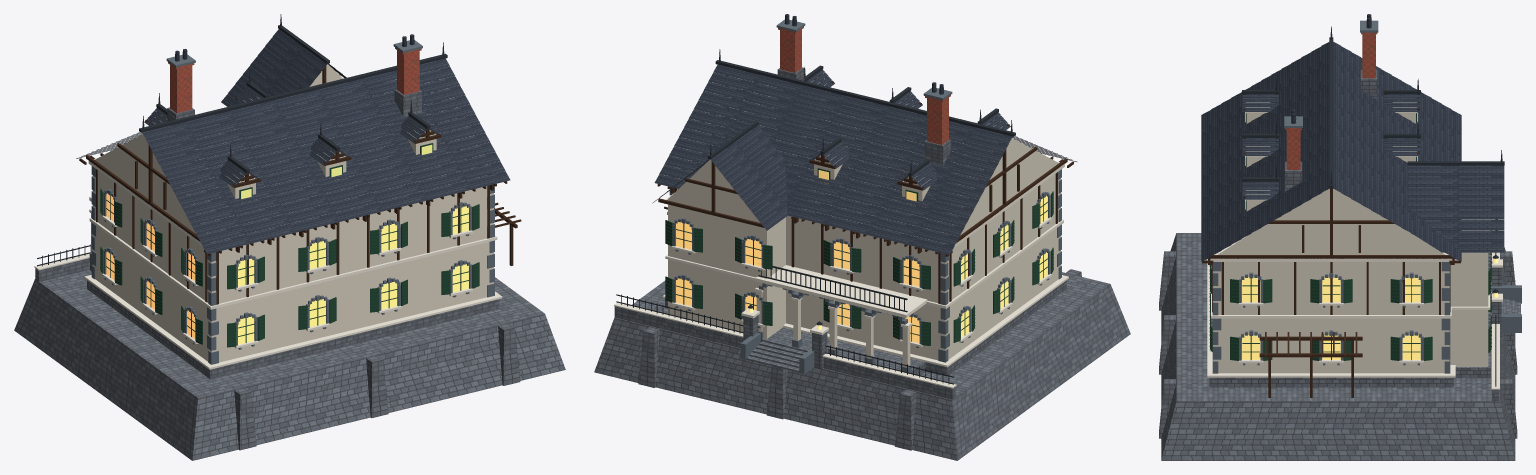
The model's file is fv_nd_06_nguyen_du_villa_09_brittany_slate.glb.
The picture shows the model from 3 angles, left to right: view 1: azimuth 30°, elevation 25°; view 2: azimuth 150°, elevation 25°; view 3: azimuth 270°, elevation 25°; orthographic projection. The views are drawn at different scales.
Parts seen in each view (by area): view 1: Foundation_Skirt_Neg3p5m, Normandy_Brittany_Layered_Roof, Villa_Stucco_Walls, Molded_Cornices_And_Sills, PineGreen_Louvered_Shutters, Stone_Quoins_And_Arches, Exposed_Timber_Trusses_And_Rafters, Warm_Night_Windows_20h00_Blend, Roof_Ridges_Caps_And_Finials, Brick_Chimney_Stacks; view 2: Foundation_Skirt_Neg3p5m, Normandy_Brittany_Layered_Roof, Villa_Stucco_Walls, Molded_Cornices_And_Sills, Stone_Quoins_And_Arches, PineGreen_Louvered_Shutters, Exposed_Timber_Trusses_And_Rafters, Warm_Night_Windows_20h00_Blend, Roof_Ridges_Caps_And_Finials, Wrought_Iron_Balustrades_And_Gate, Brick_Chimney_Stacks; view 3: Foundation_Skirt_Neg3p5m, Normandy_Brittany_Layered_Roof, Villa_Stucco_Walls, Molded_Cornices_And_Sills, Exposed_Timber_Trusses_And_Rafters, Stone_Quoins_And_Arches, PineGreen_Louvered_Shutters, Warm_Night_Windows_20h00_Blend, Roof_Ridges_Caps_And_Finials, Brick_Chimney_Stacks.
Boxes of the visible parts, left/top/right/bottom form: Foundation_Skirt_Neg3p5m: left=14, top=89, right=565, bottom=460; Normandy_Brittany_Layered_Roof: left=142, top=29, right=510, bottom=254; Villa_Stucco_Walls: left=91, top=64, right=493, bottom=362; Molded_Cornices_And_Sills: left=34, top=95, right=502, bottom=369; PineGreen_Louvered_Shutters: left=100, top=143, right=479, bottom=347; Stone_Quoins_And_Arches: left=89, top=40, right=494, bottom=364; Exposed_Timber_Trusses_And_Rafters: left=79, top=66, right=521, bottom=304; Warm_Night_Windows_20h00_Blend: left=106, top=144, right=468, bottom=344; Roof_Ridges_Caps_And_Finials: left=76, top=14, right=447, bottom=180; Brick_Chimney_Stacks: left=168, top=47, right=421, bottom=113; Foundation_Skirt_Neg3p5m: left=594, top=67, right=1130, bottom=460; Normandy_Brittany_Layered_Roof: left=654, top=14, right=1012, bottom=254; Villa_Stucco_Walls: left=667, top=95, right=1060, bottom=367; Molded_Cornices_And_Sills: left=614, top=80, right=1068, bottom=388; Stone_Quoins_And_Arches: left=669, top=19, right=1061, bottom=374; PineGreen_Louvered_Shutters: left=665, top=168, right=1053, bottom=345; Exposed_Timber_Trusses_And_Rafters: left=657, top=69, right=1073, bottom=303; Warm_Night_Windows_20h00_Blend: left=676, top=170, right=1047, bottom=343; Roof_Ridges_Caps_And_Finials: left=652, top=49, right=1076, bottom=203; Wrought_Iron_Balustrades_And_Gate: left=616, top=266, right=954, bottom=384; Brick_Chimney_Stacks: left=778, top=27, right=950, bottom=144; Foundation_Skirt_Neg3p5m: left=1159, top=70, right=1520, bottom=460; Normandy_Brittany_Layered_Roof: left=1201, top=14, right=1504, bottom=261; Villa_Stucco_Walls: left=1213, top=113, right=1488, bottom=373; Molded_Cornices_And_Sills: left=1207, top=102, right=1502, bottom=389; Exposed_Timber_Trusses_And_Rafters: left=1202, top=94, right=1497, bottom=397; Stone_Quoins_And_Arches: left=1210, top=20, right=1521, bottom=373; PineGreen_Louvered_Shutters: left=1209, top=113, right=1491, bottom=360; Warm_Night_Windows_20h00_Blend: left=1242, top=112, right=1498, bottom=359; Roof_Ridges_Caps_And_Finials: left=1242, top=26, right=1504, bottom=188; Brick_Chimney_Stacks: left=1285, top=32, right=1377, bottom=169.
Bounding box in the file's own units: 25.93 × 20.2 × 21.53.
12 materials, 3 textured.
